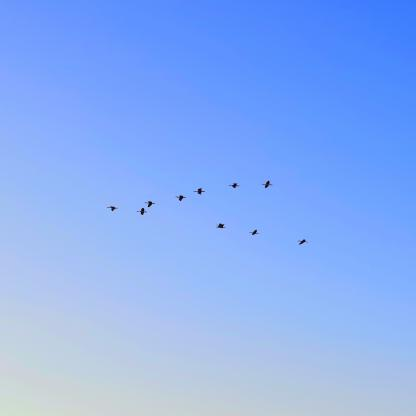bird: (260, 180, 276, 189), (172, 194, 190, 202), (192, 188, 209, 195), (144, 199, 157, 208), (246, 228, 260, 236), (104, 204, 119, 211), (136, 207, 148, 215), (214, 223, 230, 229), (228, 183, 242, 189), (296, 239, 310, 245)
